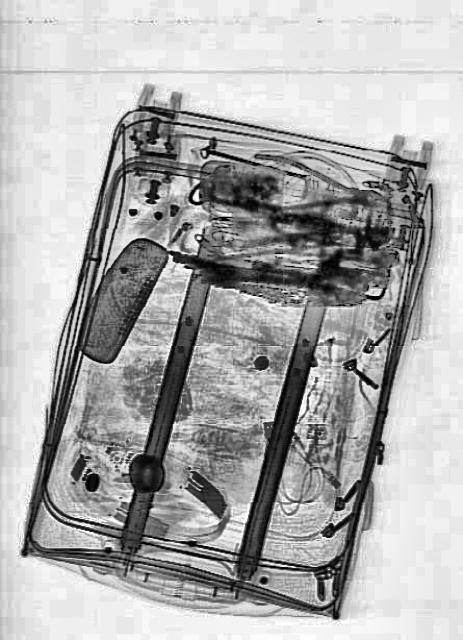Pliers: (248, 153, 382, 221)
